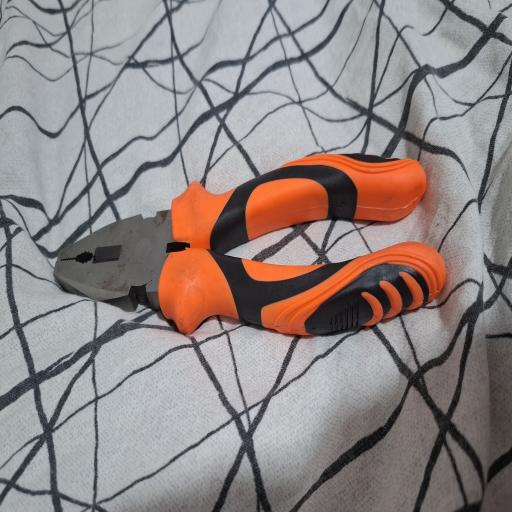alicate: (54, 151, 450, 340)
